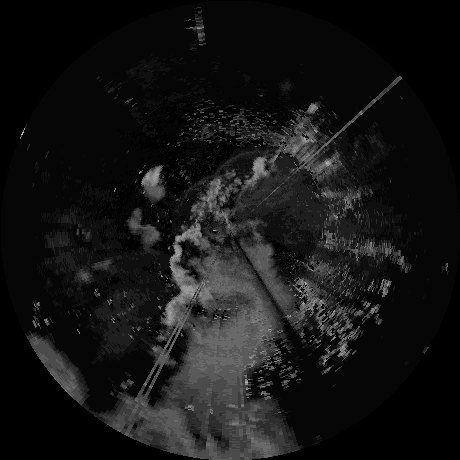frontgust: (216, 151, 271, 174), (173, 178, 210, 210)
